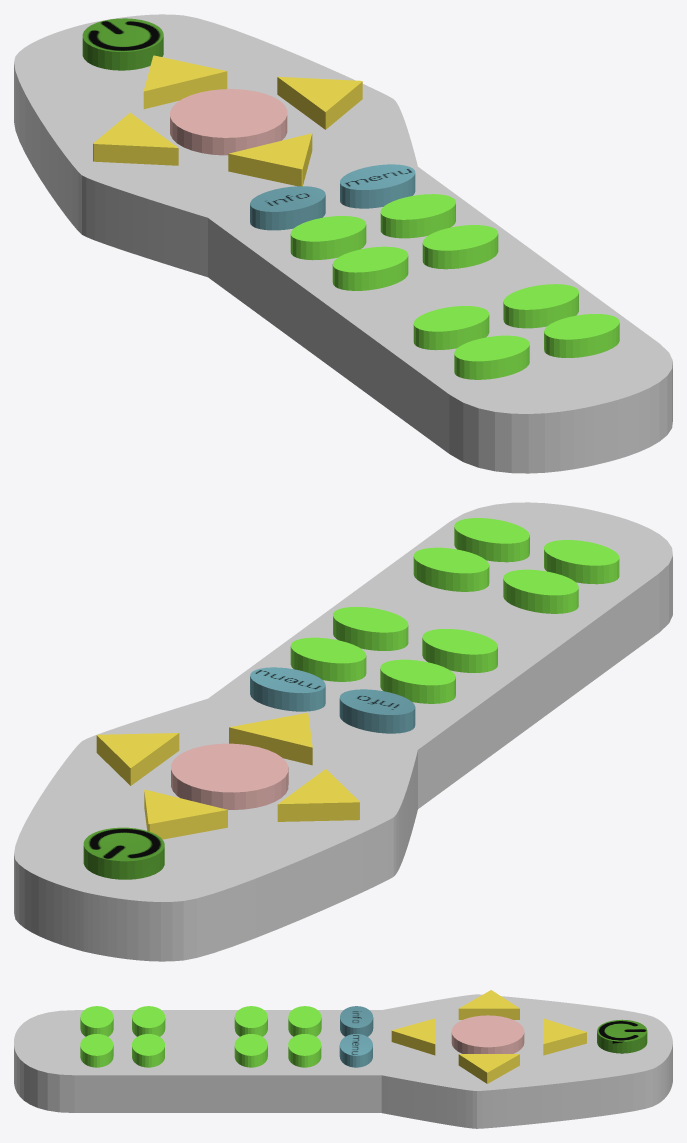
Rendered from remote2.glb.
The picture shows the model from 3 angles, top to bottom: view 1: azimuth 30°, elevation 25°; view 2: azimuth 150°, elevation 25°; view 3: azimuth 270°, elevation 25°; orthographic projection. The views are drawn at different scales.
Parts seen in each view (by area): view 1: Curve, Middle_Button, Power_Button, Prev_Proj, Next_Proj, Next_Channel, Prev_Channel, Button_3, Button 4, Button_9, Button_10, Button_1 (+5 smaller); view 2: Curve, Middle_Button, Power_Button, Next_Proj, Prev_Proj, Info_Button, Button_8, Prev_Channel, Menu_Button, Button_7, Button 4, Button_3 (+5 smaller); view 3: Curve, Middle_Button, Power_Button, Next_Proj, Prev_Proj, Next_Channel, Prev_Channel, Button_2, Button 4, Button_10, Menu_Button, Button_8 (+5 smaller).
Part boxes in pixels (x1,y1,x2,y2): Curve: (14,14,672,473); Middle_Button: (170,89,287,155); Power_Button: (82,18,163,70); Prev_Proj: (93,112,178,165); Next_Proj: (277,76,362,129); Next_Channel: (228,133,312,186); Prev_Channel: (143,55,227,109); Button_3: (332,246,408,290); Button 4: (422,225,498,269); Button_9: (454,335,529,379); Button_10: (544,314,619,357); Button_1: (290,216,366,260); Curve: (14,502,672,961); Middle_Button: (171,743,288,809); Power_Button: (83,827,164,879); Next_Proj: (96,733,179,785); Prev_Proj: (277,769,359,821); Info_Button: (339,689,415,733); Button_8: (413,547,489,591); Prev_Channel: (144,789,227,839); Menu_Button: (250,667,325,711); Button_7: (503,569,578,613); Button 4: (333,607,408,650); Button_3: (422,629,497,672); Curve: (14,994,672,1128); Middle_Button: (451,1015,524,1053); Power_Button: (597,1019,647,1053); Next_Proj: (458,1054,519,1083); Prev_Proj: (458,990,519,1019); Next_Channel: (391,1018,435,1055); Prev_Channel: (543,1018,586,1055); Button_2: (288,1034,321,1067); Button 4: (234,1034,267,1067); Button_10: (80,1034,113,1067); Menu_Button: (339,1034,372,1067); Button_8: (132,1034,164,1067).
Size of the model in its own units: 2.51 by 0.6006 by 7.24.
Materials: 17 (3 with a texture image).
